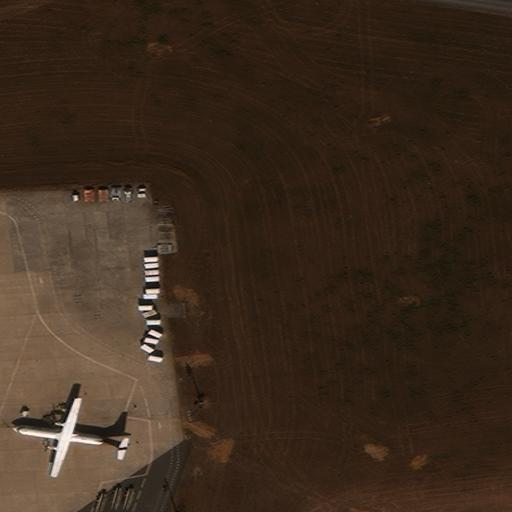Medium Civil Transport: (12, 397, 128, 476)
